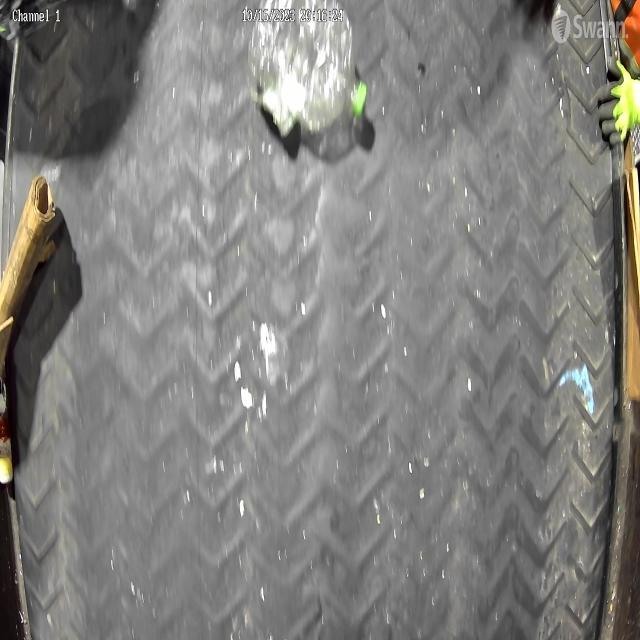plastic_bottle: (248, 0, 368, 135)
